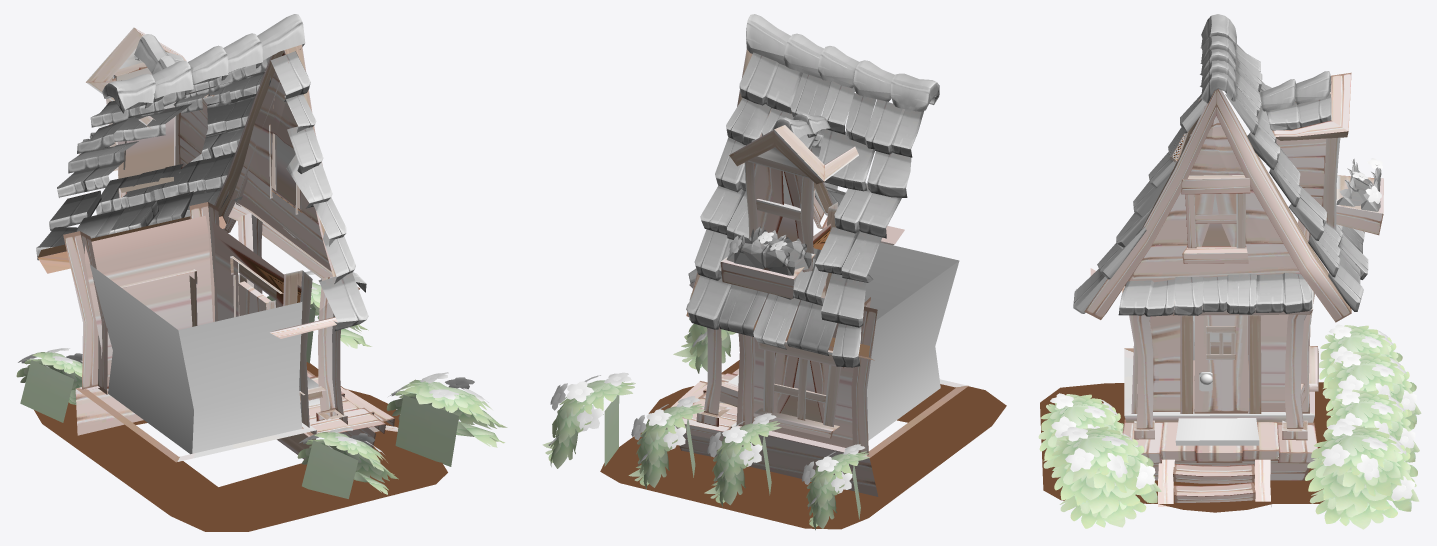
The model's file is HouseVillage1.fbx.
3 renders of one model, left to right at view 1: azimuth 30°, elevation 25°; view 2: azimuth 150°, elevation 25°; view 3: azimuth 270°, elevation 25°, orthographic. The views are drawn at different scales.
Visible parts, largest first — view 1: Main, FarmerHouseShadow006, BushSmallBlue (×3), BushSmallGreen; view 2: Main, FarmerHouseShadow006, BushSmallBlue (×3), BushSmallGreen (×2); view 3: Main, BushSmallBlue (×4), FarmerHouseShadow006, BushSmallGreen (×2).
Part boxes in pixels (x1,y1,x2,y2): Main: (36, 14, 398, 462); FarmerHouseShadow006: (34, 362, 447, 531); BushSmallBlue (×3): (267, 282, 507, 498); BushSmallGreen: (16, 352, 82, 422); Main: (665, 14, 968, 496); FarmerHouseShadow006: (600, 360, 1006, 529); BushSmallBlue (×3): (542, 319, 781, 506); BushSmallGreen (×2): (628, 404, 869, 530); Main: (1073, 14, 1383, 506); BushSmallBlue (×4): (1038, 351, 1421, 529); FarmerHouseShadow006: (1040, 382, 1333, 512); BushSmallGreen (×2): (1319, 325, 1419, 462).
Bounding box in the file's own units: 4.2 × 5.17 × 4.46.
